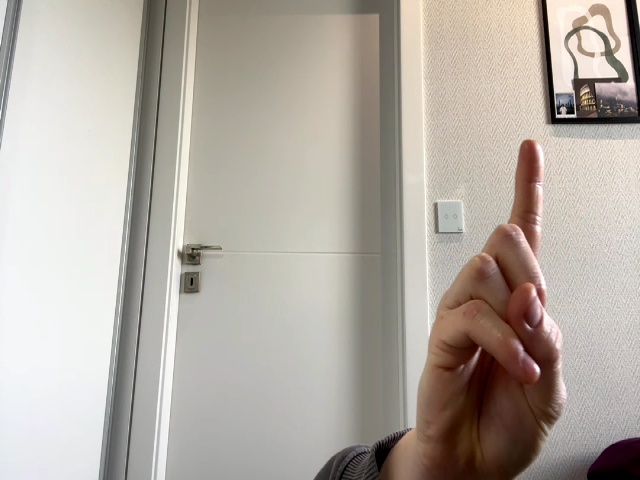Z: (417, 140, 568, 480)
